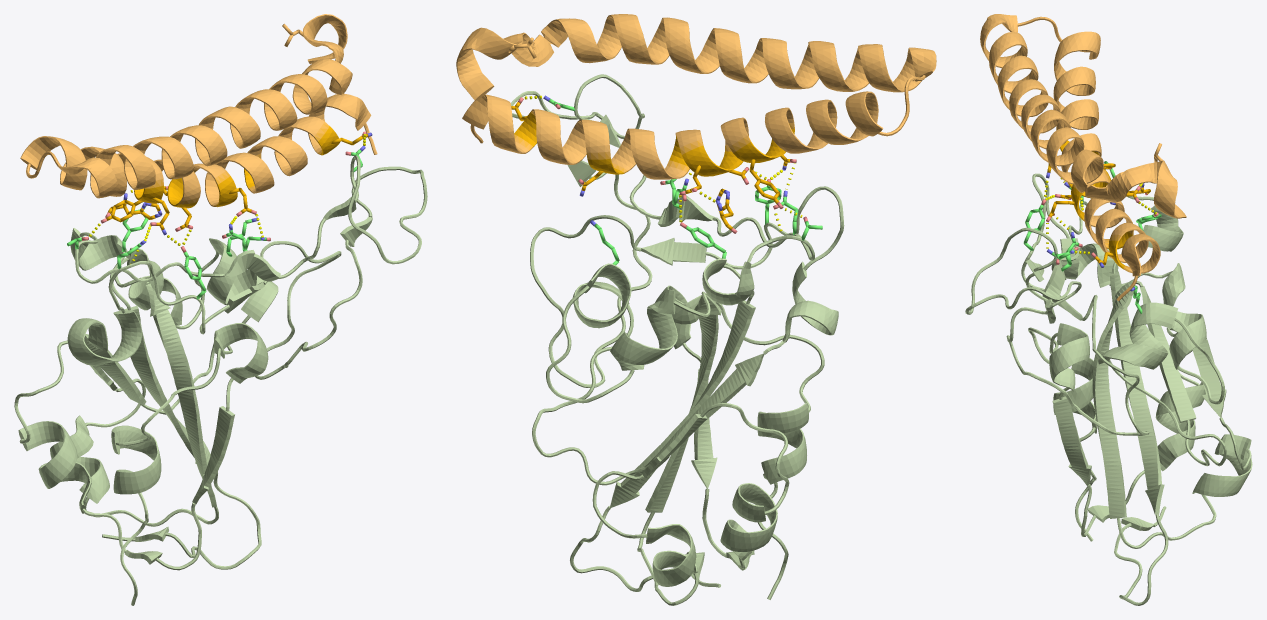
File: mouse.glb
The picture shows the model from 3 angles, left to right: view 1: azimuth 30°, elevation 25°; view 2: azimuth 150°, elevation 25°; view 3: azimuth 270°, elevation 25°; orthographic projection. The views are drawn at different scales.
Visible parts, largest first — view 1: Node; view 2: Node; view 3: Node.
Boxes of the visible parts, x1=… form: Node: x1=14, y1=14, x2=427, y2=605; Node: x1=456, y1=14, x2=936, y2=605; Node: x1=965, y1=14, x2=1252, y2=605.
Size of the model in its own units: 49.53 by 63.99 by 33.99.
